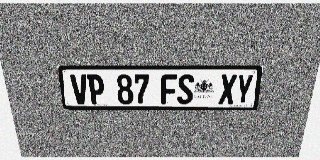7: (133, 74, 150, 104)
8: (116, 74, 133, 104)
F: (161, 74, 177, 104)
P: (87, 74, 105, 104)
S: (177, 74, 194, 104)
V: (70, 74, 89, 104)
X: (218, 74, 237, 104)
Y: (234, 74, 254, 104)
